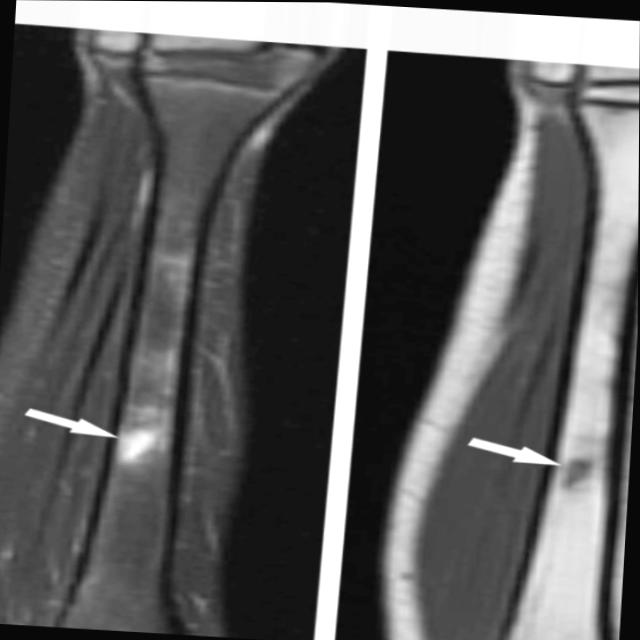Oblique Displaced: (554, 444, 613, 504), (115, 422, 172, 467)
